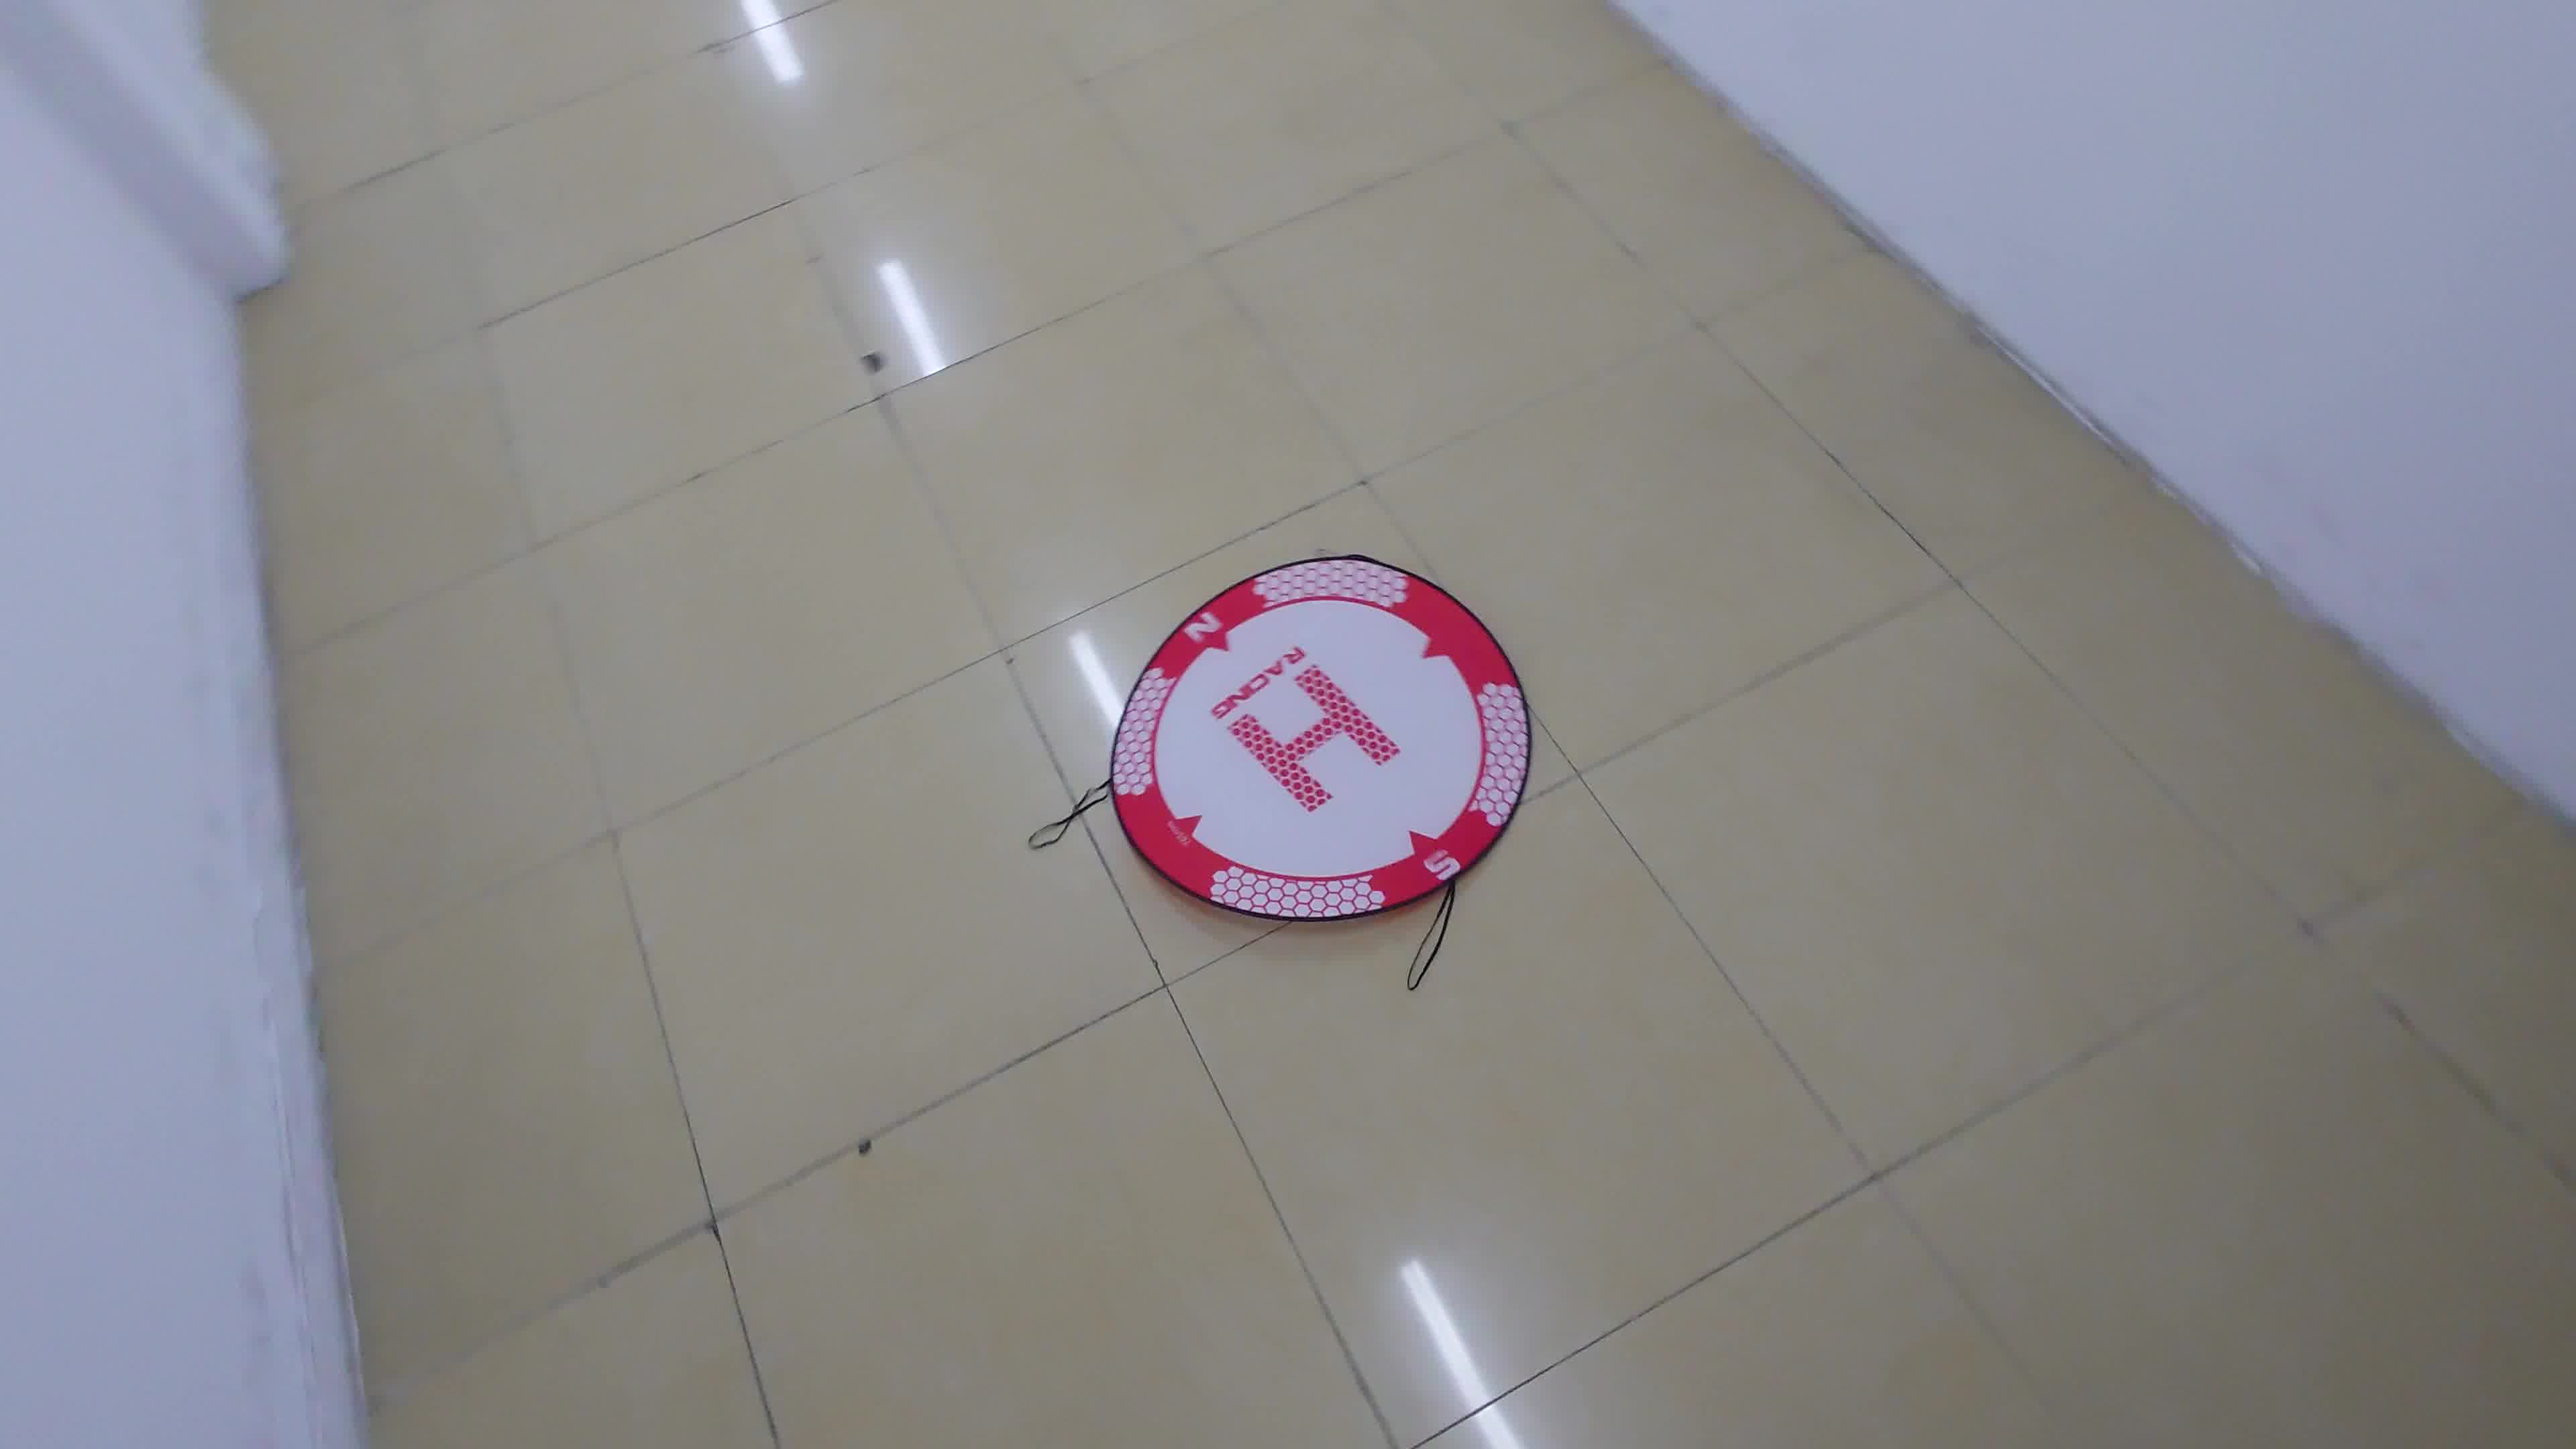H: (1224, 662, 1399, 812)
